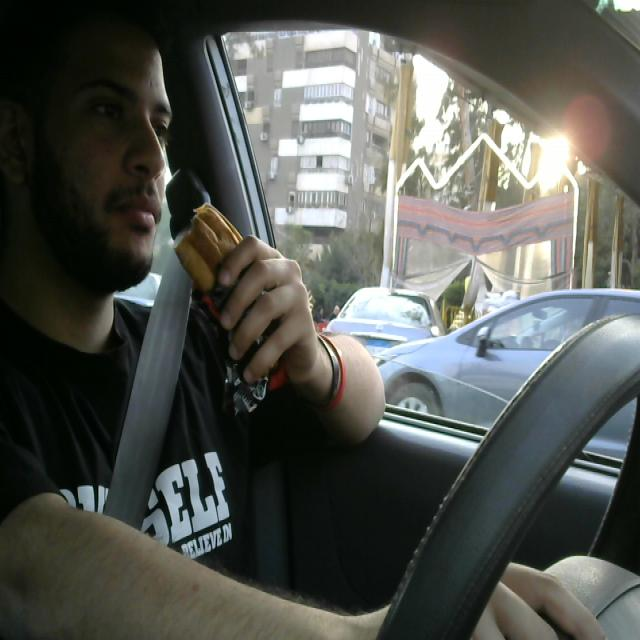eating: (165, 192, 306, 397)
